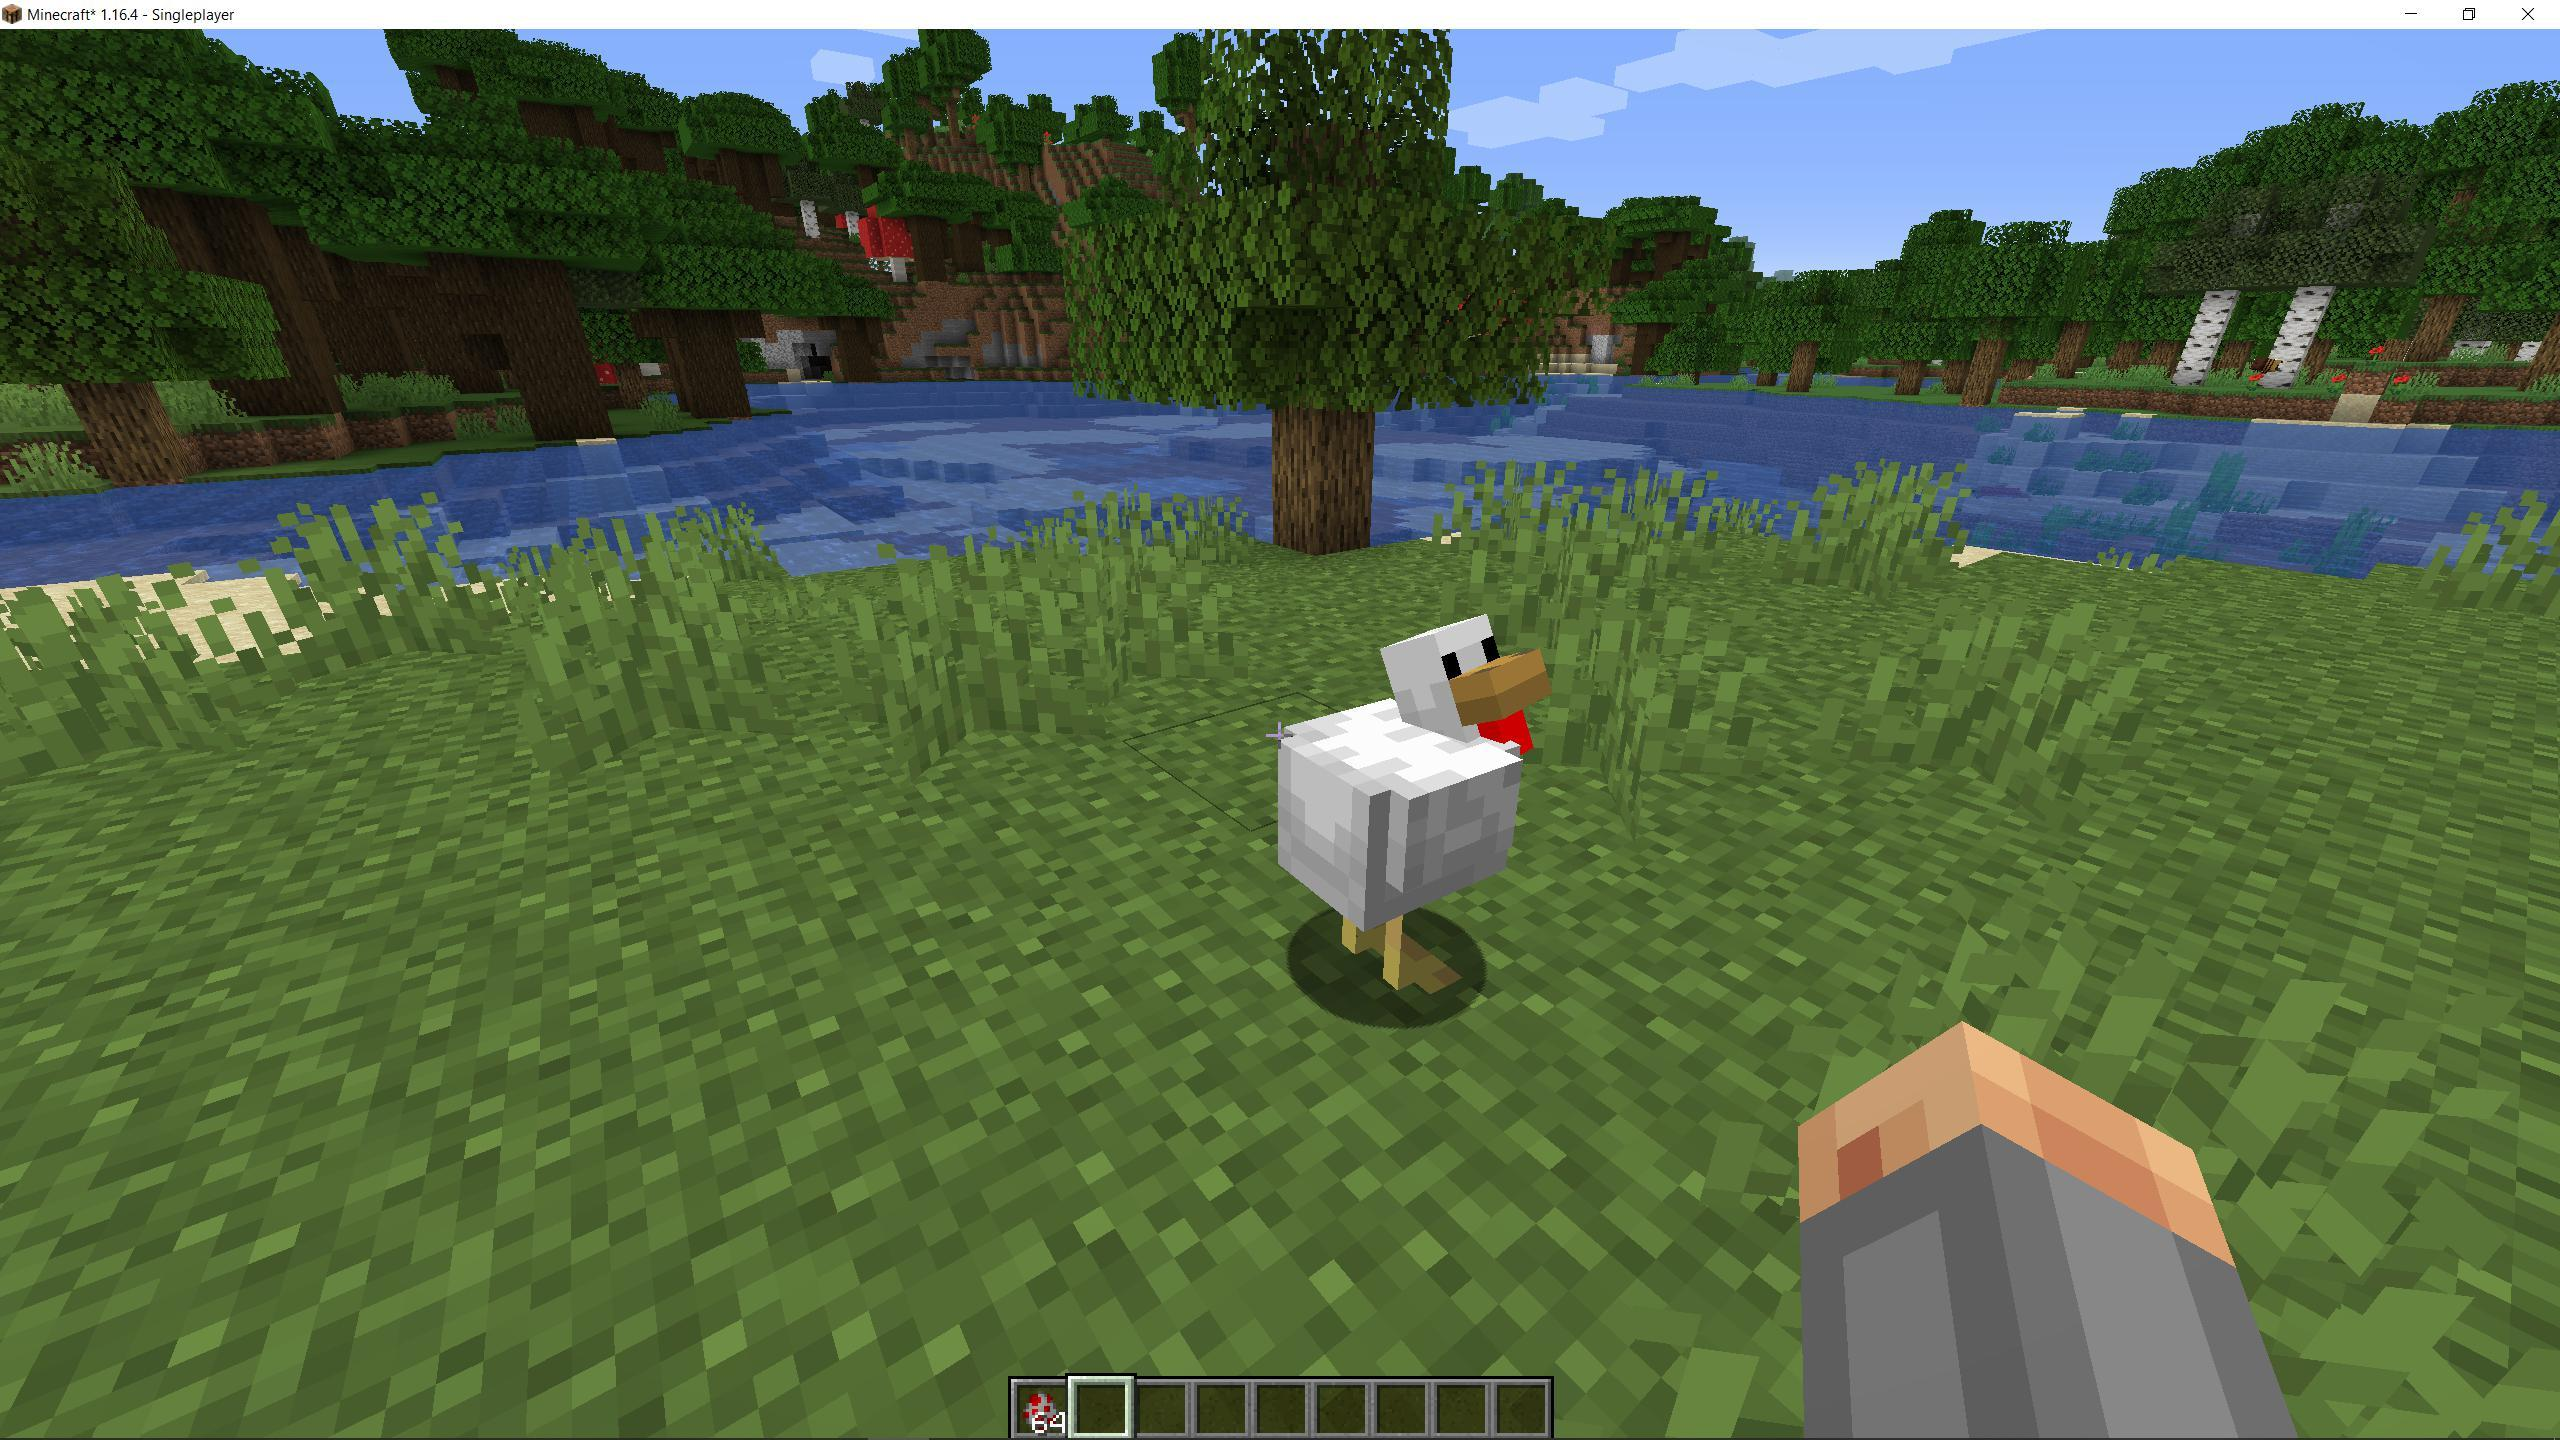chicken: (1255, 605, 1545, 1029)
